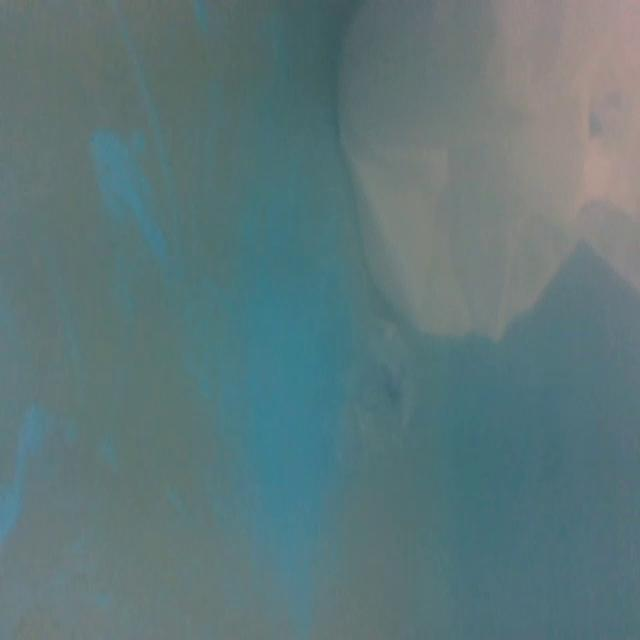plastic bags: (329, 3, 640, 341)
plastic bottle: (320, 330, 415, 485)
